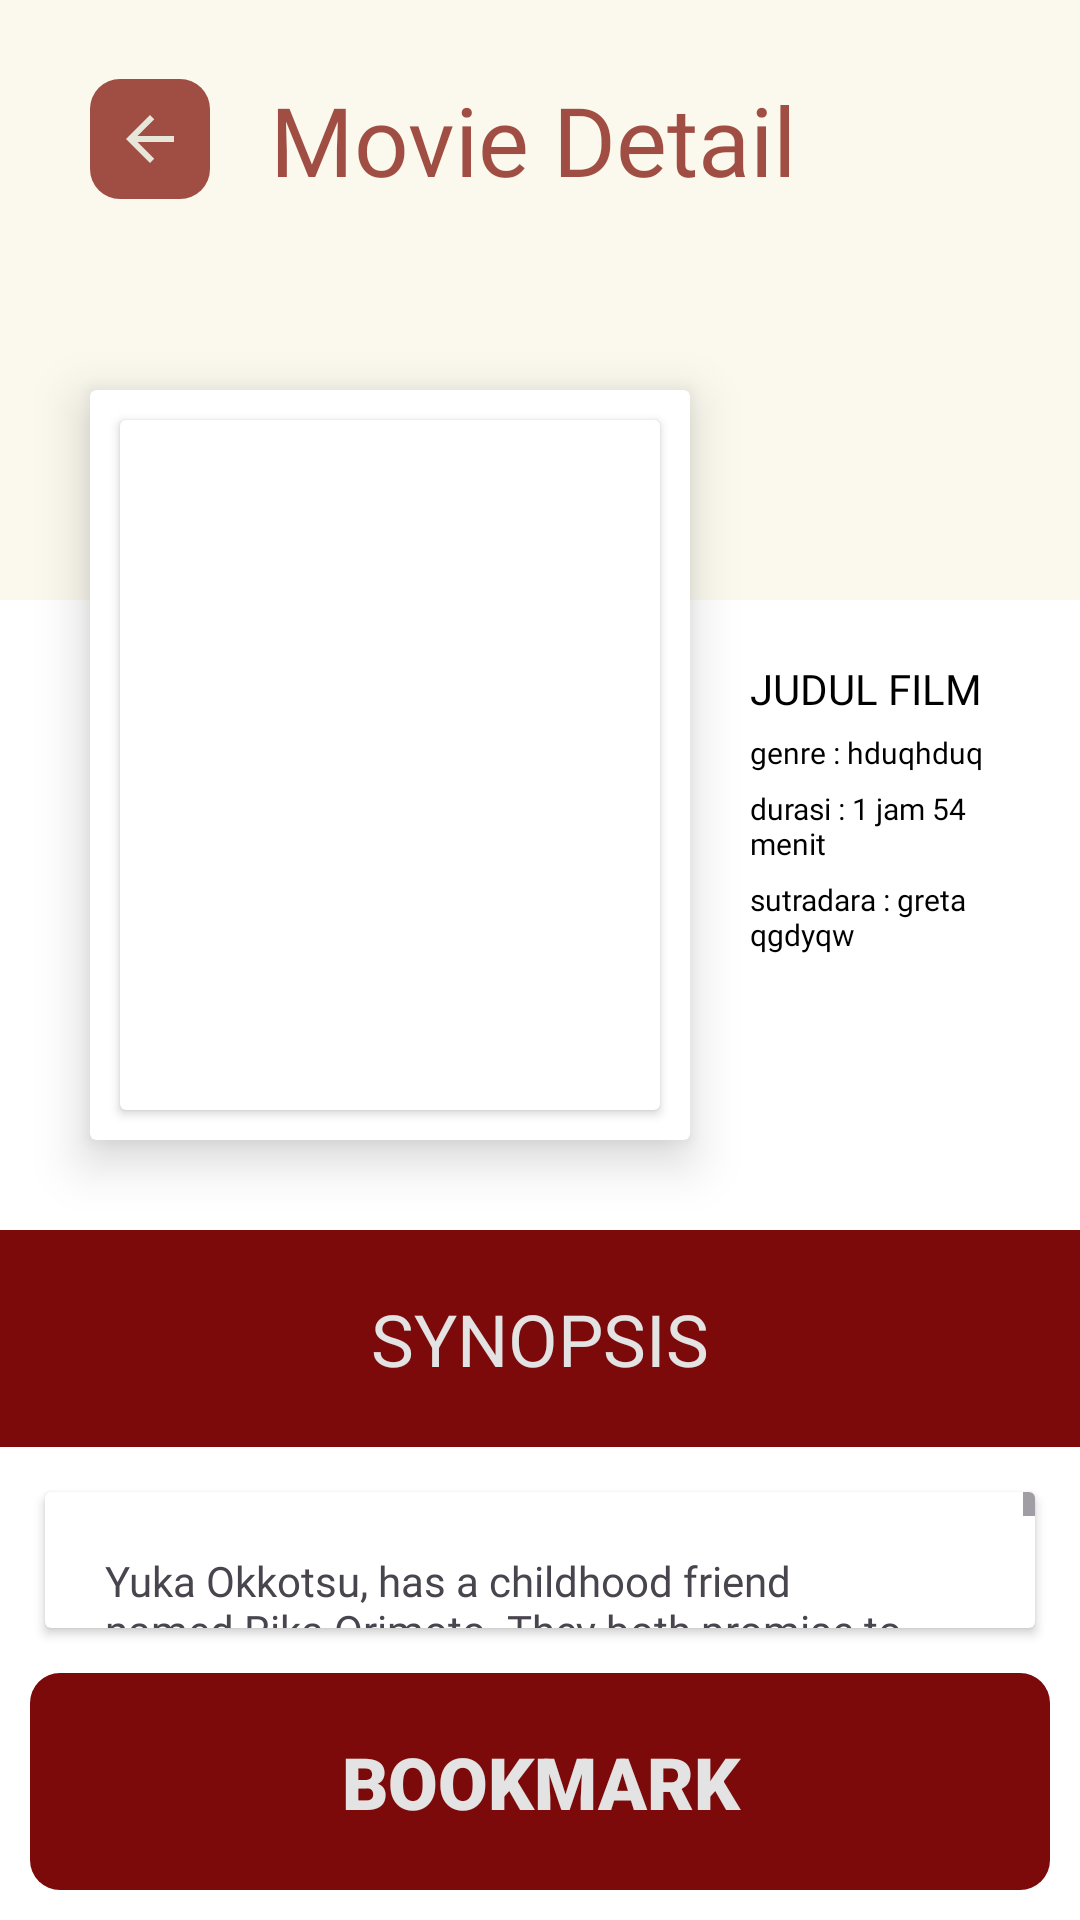

Icon bounding boxes for this 1080 x 1920 phone screenshot, format (x1, y1, x2, y2):
arrow back: (90, 79, 210, 199)
